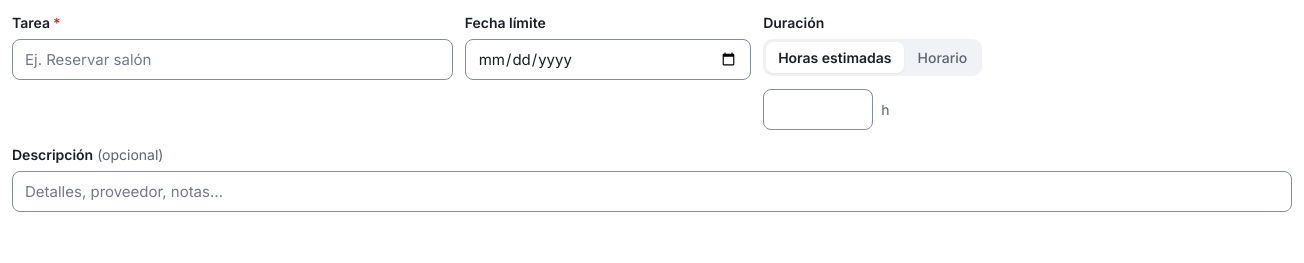
Test: hora de fin automática › al elegir la hora de inicio, propone el fin una hora después
Click the radio button labelled "Horario" at [942, 58], box [906,42,979,73]
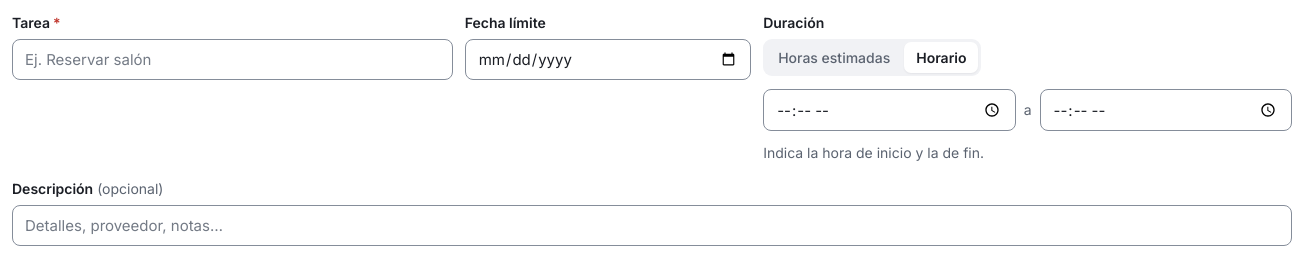
Type "09:00" into the time field named "Hora de inicio" at [889, 110], box [763,89,1016,131]
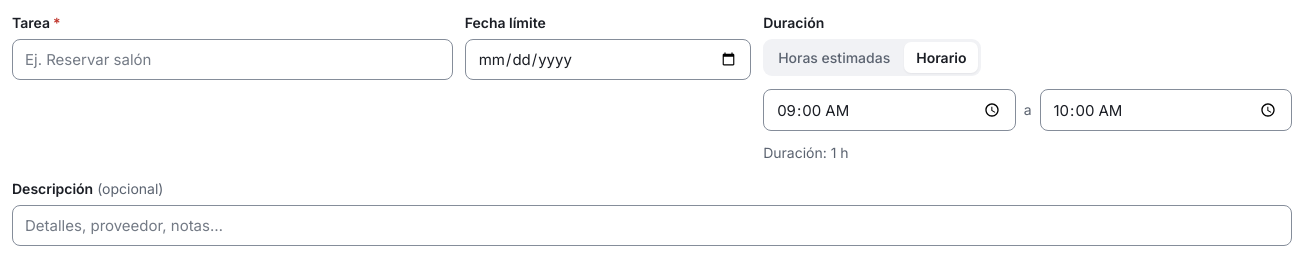
Now the time field named "Hora de fin" holds "10:00", box [1040,89,1292,131]
Now the text "Duración: 1 h" is shown, box [763,144,849,161]
